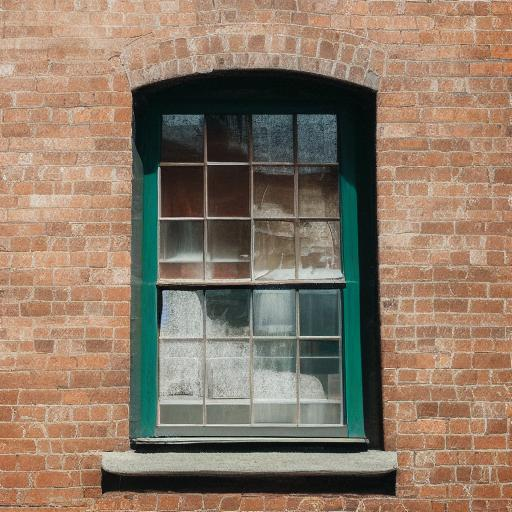Window: (99, 19, 404, 479)
